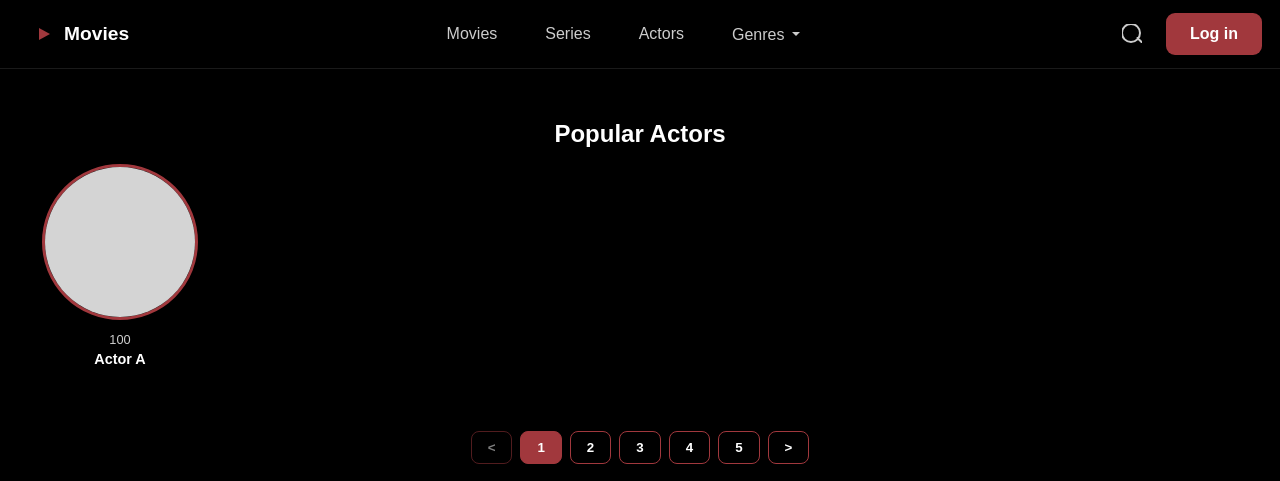
Actors Component › handles pagination correctly
Check: the text "Actor A" is shown, box x1=94 y1=351 x2=146 y2=367
What coordinates should you click on to do the following:
click the button ">"
I would click on:
 (788, 447)
Its box is x1=768 y1=431 x2=809 y2=464.
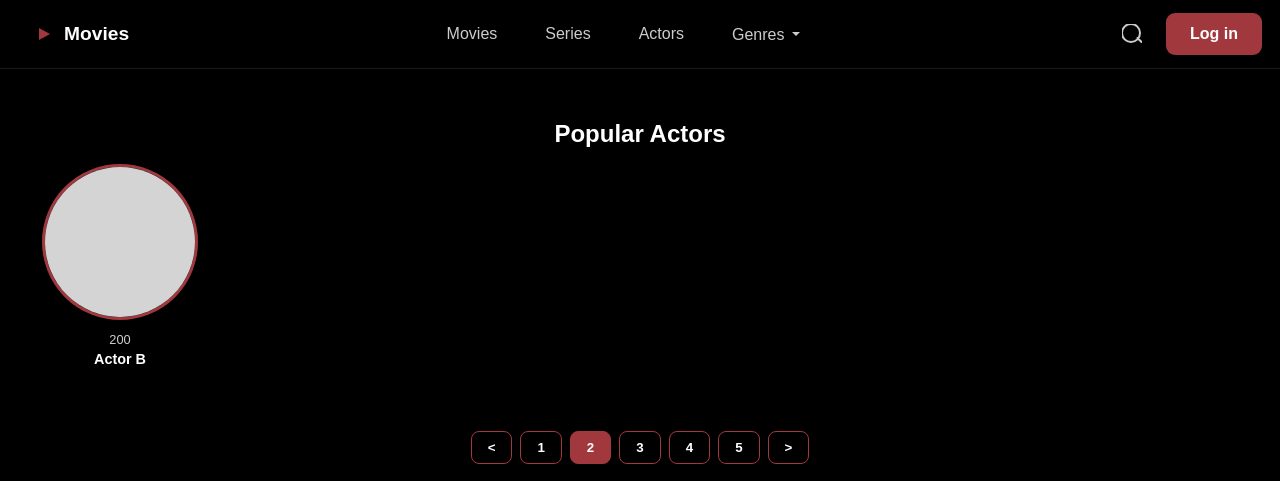
Check: the text "Actor B" is shown, box x1=94 y1=351 x2=146 y2=367
Check: the text "Actor A" is gone
